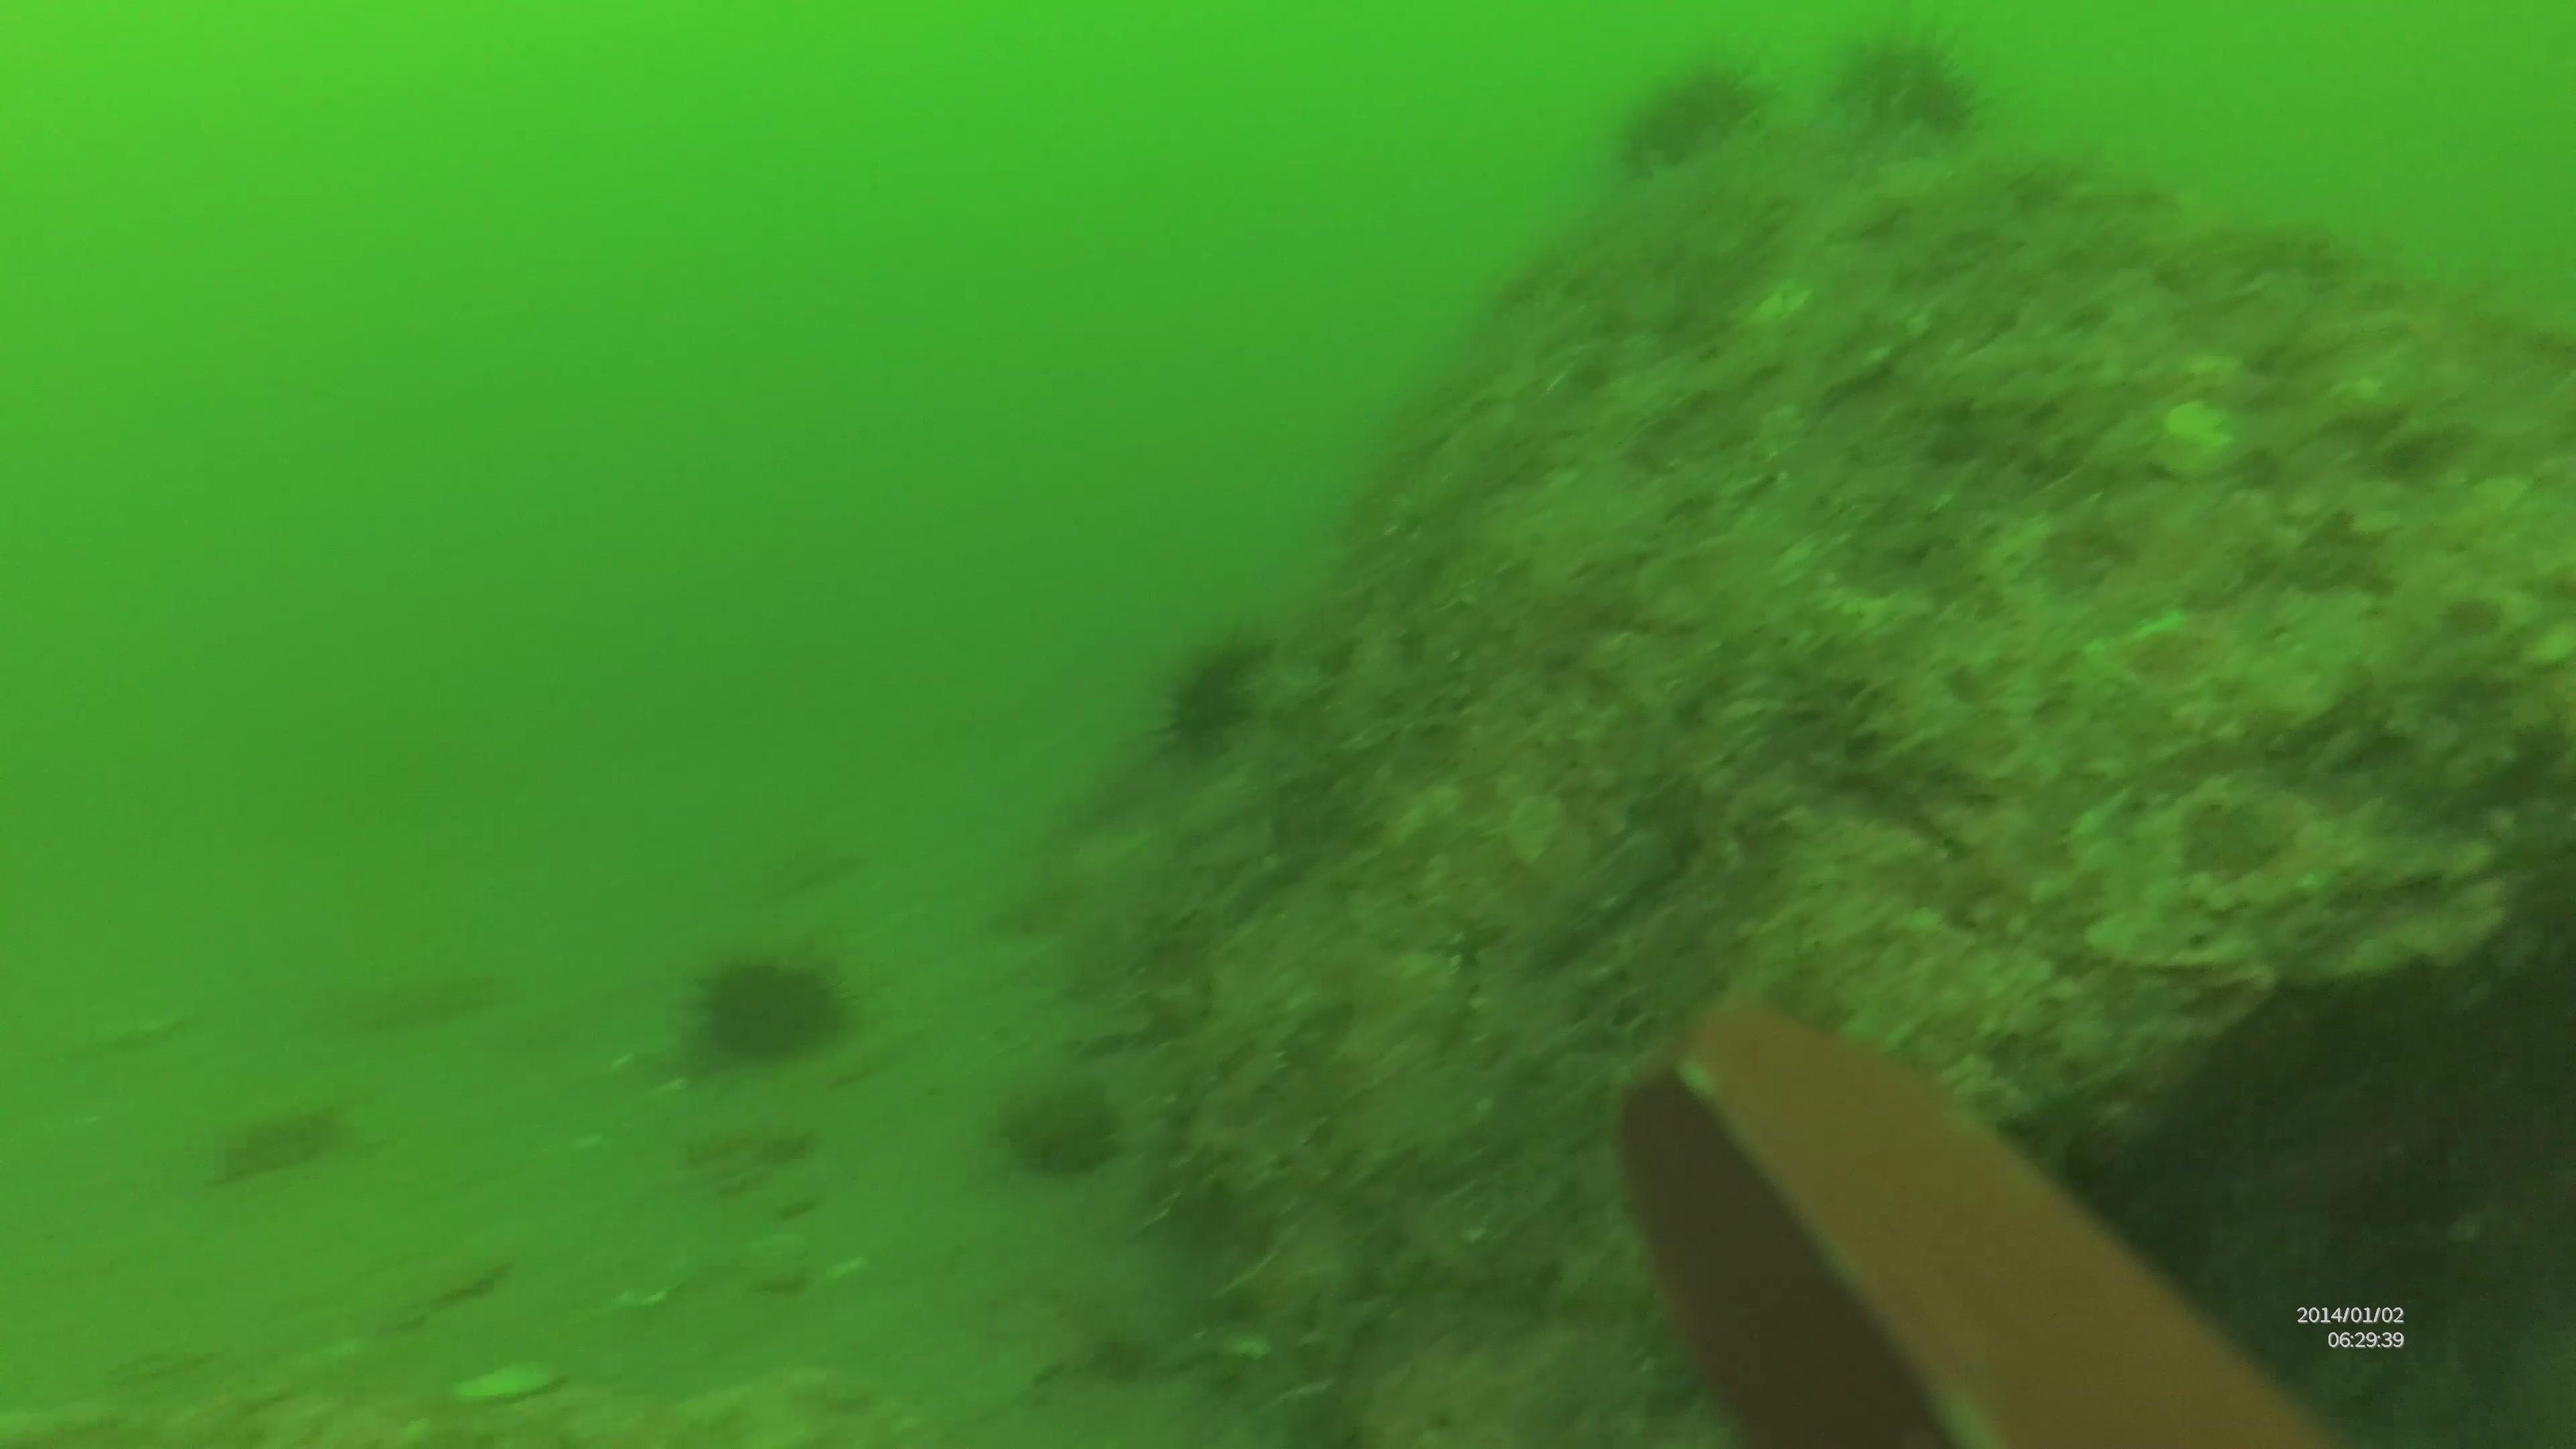echinus: (1824, 39, 2008, 166), (674, 952, 851, 1079), (1617, 39, 1755, 173), (1146, 637, 1283, 757)
